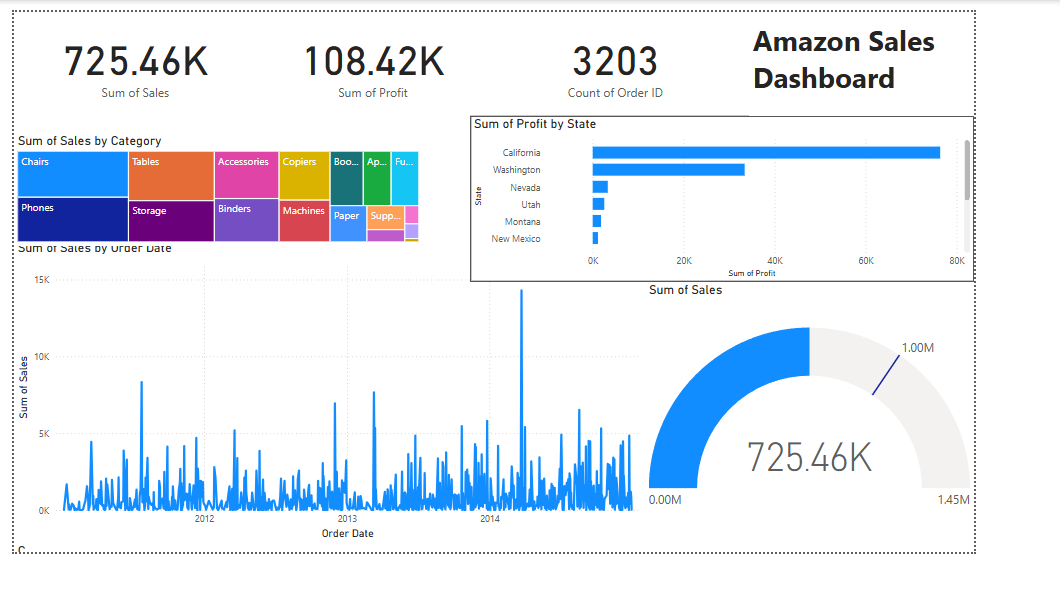

This screenshot's page, from the dashboard's own definition file:
{"tool":"powerbi","page":{"name":"Page 1","canvas":[1280,720],"ordinal":0},"visuals":[{"type":"card","fields":{"Values":["Sum(Walmart.Sales)"]},"box":[0,0,324.1,137.4],"z":1},{"type":"card","fields":{"Values":["Sum(Walmart.Profit)"]},"box":[315.9,0,324.1,137.4],"z":2},{"type":"card","fields":{"Values":["CountNonNull(Walmart.Order ID)"]},"box":[640,0,324.1,137.4],"z":3},{"type":"lineChart","fields":{"Category":["Walmart.Order Date"],"Y":["Sum(Walmart.Sales)"]},"box":[0,303.3,841.7,405],"z":4},{"type":"treemap","fields":{"Group":["Walmart.Category"],"Values":["Sum(Walmart.Sales)"]},"box":[0,161.7,545,150],"z":5},{"type":"barChart","fields":{"Category":["Walmart.State"],"Y":["Sum(Walmart.Profit)"]},"box":[608.3,138.1,671.7,221.4],"z":6},{"type":"gauge","fields":{"Y":["Sum(Walmart.Sales)"]},"box":[841.7,360,438.3,348.3],"z":7},{"type":"textbox","box":[980,6.7,300,131.7],"z":8},{"type":"map","fields":{"Category":["Walmart.Country"],"Series":["Walmart.State"]},"box":[0,707.7,18.5,12.3],"z":9}]}

Visuals, with their boxes in screenshot pixels (x1, y1, x2, y2), scaled from the page's 1280x720 canvas onto the 1060x607 screenshot:
card - Sum(Walmart.Sales): rect(0, 0, 268, 116)
card - Sum(Walmart.Profit): rect(262, 0, 530, 116)
card - CountNonNull(Walmart.Order ID): rect(530, 0, 798, 116)
lineChart - Walmart.Order Date x Sum(Walmart.Sales): rect(0, 256, 697, 597)
treemap - Walmart.Category x Sum(Walmart.Sales): rect(0, 136, 451, 263)
barChart - Walmart.State x Sum(Walmart.Profit): rect(504, 116, 1059, 303)
gauge - Sum(Walmart.Sales): rect(697, 304, 1059, 597)
textbox: rect(812, 6, 1059, 117)
map - Walmart.Country x Walmart.State: rect(0, 597, 15, 606)
